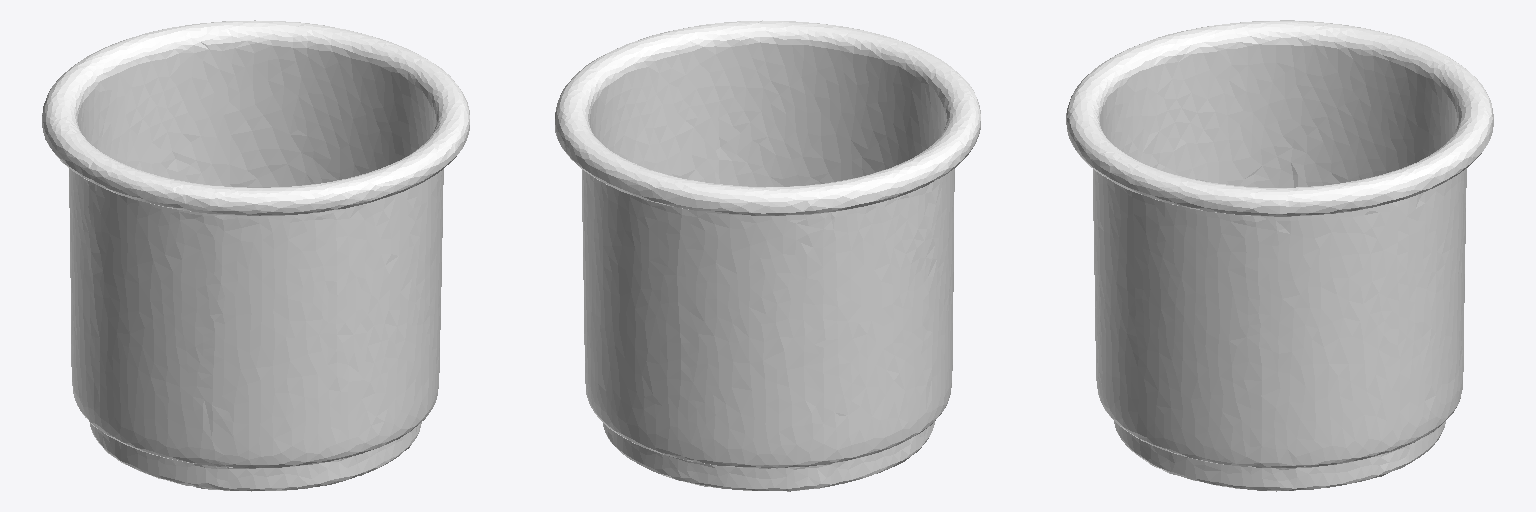
robot.urdf — 072-b_toy_airplane:
<robot name="072-b_toy_airplane">
	<link name="_name">
		<visual>
			<origin xyz="0.4948007536634335 -0.11121747774205813 -0.2539868841270461" rpy="0 0 0" />
			<geometry>
				<mesh filename="072-b_toy_airplane/google_16k/textured.obj" scale="10 10 10" />
			</geometry>
			<material name="texture">
				<color rgba="1.0 1.0 1.0 1.0" />
			</material>
		</visual>
		<collision>
			<geometry>
				<mesh filename="072-b_toy_airplane/google_16k/textured_vhacd.obj" scale="10 10 10" />
			</geometry>
		<origin xyz="0.4948007536634335 -0.11121747774205813 -0.2539868841270461" rpy="0 0 0" /></collision>
		<inertial>
			<mass value="1.0" />
			<inertia ixx="1.0" ixy="0.0" ixz="0.0" iyy="1.0" iyz="0.0" izz="1.0" />
		</inertial>
	</link>
</robot>

--- What the picture shows (computed from the rendered views, not written in the file) ---
The picture shows the robot from 3 angles, left to right: view 1: azimuth 30°, elevation 25°; view 2: azimuth 150°, elevation 25°; view 3: azimuth 270°, elevation 25°; orthographic projection.
Model 072-b_toy_airplane with 1 links and 0 joints (none), rooted at _name, posed every joint at zero.
Visible links, largest first — view 1: _name; view 2: _name; view 3: _name.
Boxes of the visible links, <box> form: _name: <box>42,20,469,491</box>; _name: <box>555,20,980,491</box>; _name: <box>1066,20,1493,491</box>.
Size in the robot's own frame: 0.915 by 0.9162 by 0.7506 metres.
1 mesh visuals loaded from 1 distinct referenced files (1 OBJ).